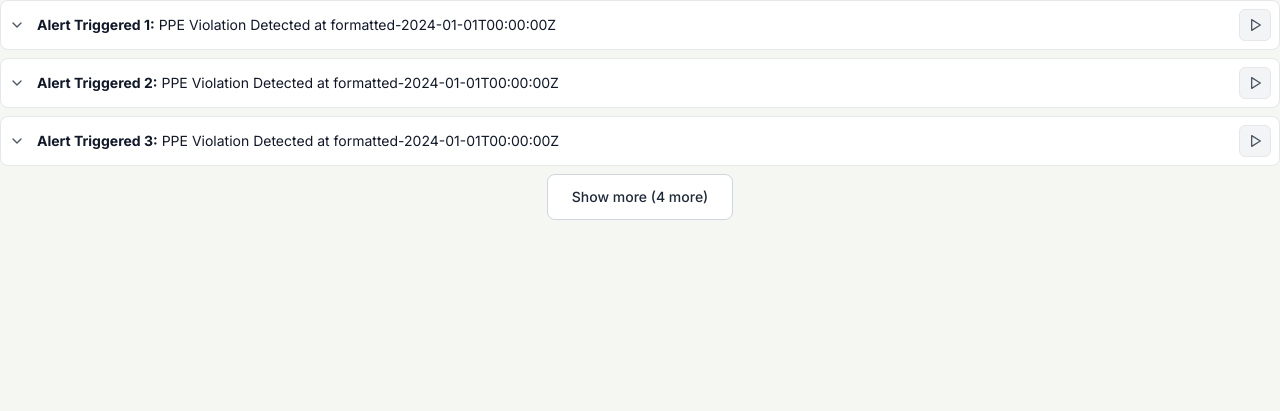
CustomIncidents › View more / view less › loads more incidents on "Show more" click
The image size is (1280, 411).
Click the button "Show more (4 more)" at [640, 197], box [547,174,733,220]
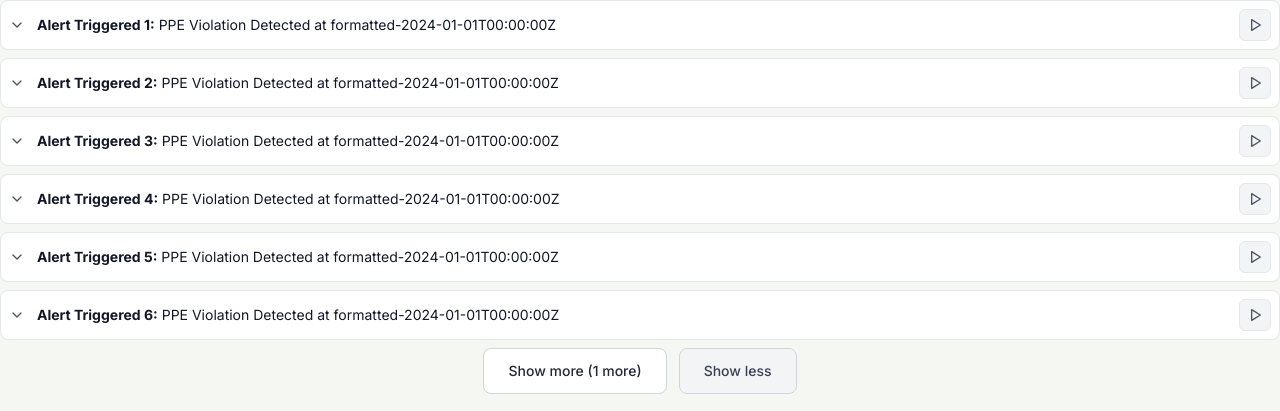
Result: the text "Alert Triggered 1:" is shown 6 times at [37,16,155,33]; [37,74,158,91]; [37,132,158,149]; [37,190,158,207]; [37,248,157,265]; [37,306,158,323]
Result: the button "Show more (1 more)" is shown at [484,348,667,394]
